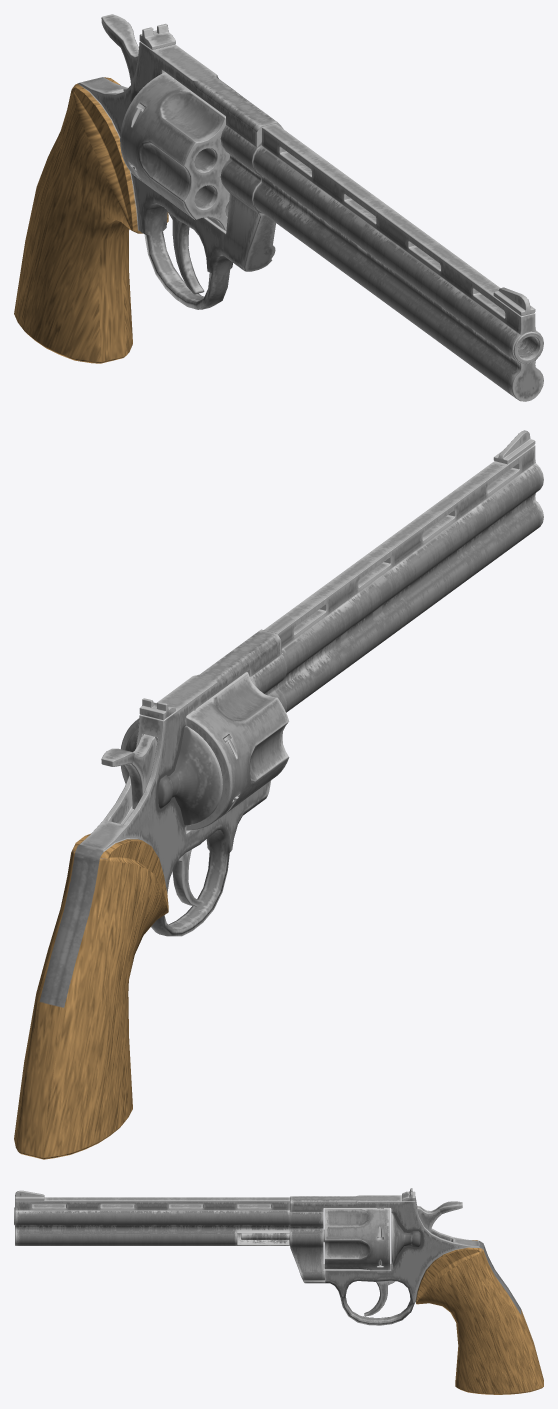
File: pistol-revolver.glb
The picture shows the model from 3 angles, top to bottom: view 1: azimuth 30°, elevation 25°; view 2: azimuth 150°, elevation 25°; view 3: azimuth 270°, elevation 25°; orthographic projection. The views are drawn at different scales.
Parts seen in each view (by area): view 1: Object_2; view 2: Object_2; view 3: Object_2.
Boxes of the visible parts, x1,y1,x2,y2 form: Object_2: (14, 14, 543, 401); Object_2: (14, 430, 543, 1159); Object_2: (14, 1188, 543, 1394).
Bounding box in the file's own units: 0.6565 × 2.06 × 5.1.
Materials: 1 (1 with a texture image).
